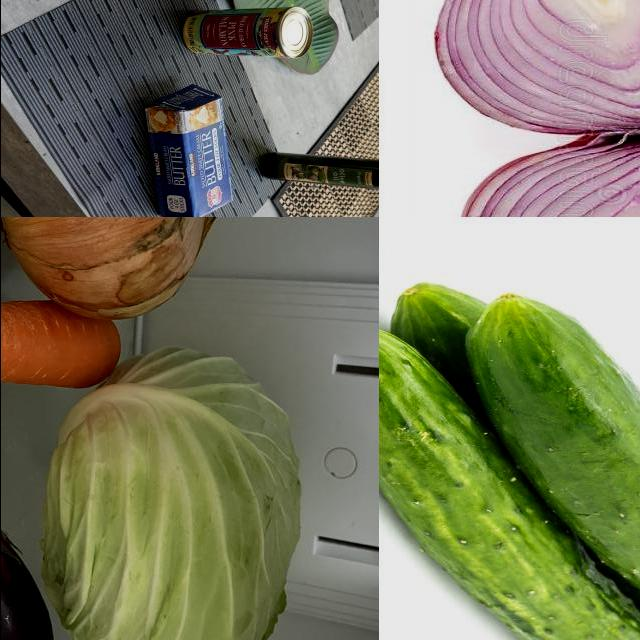cabbage: (33, 348, 304, 640)
carrot: (1, 283, 123, 390)
cucumber: (379, 317, 640, 640), (472, 294, 640, 640)
eggplant: (1, 469, 58, 640)
onion: (428, 1, 640, 135), (1, 218, 261, 324), (456, 136, 640, 218)
